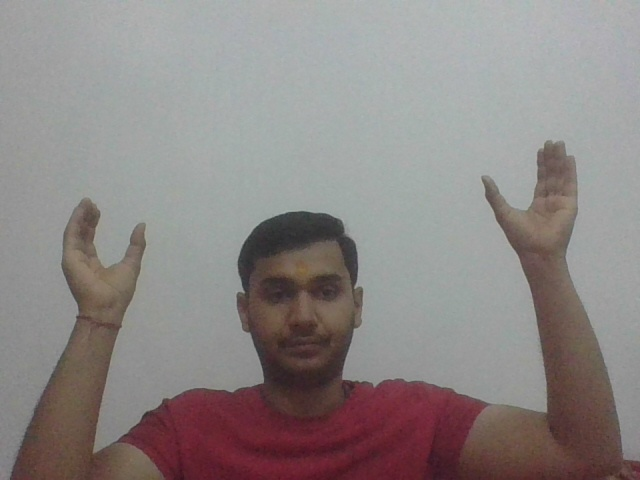U: (479, 129, 587, 254), (57, 195, 151, 316)
